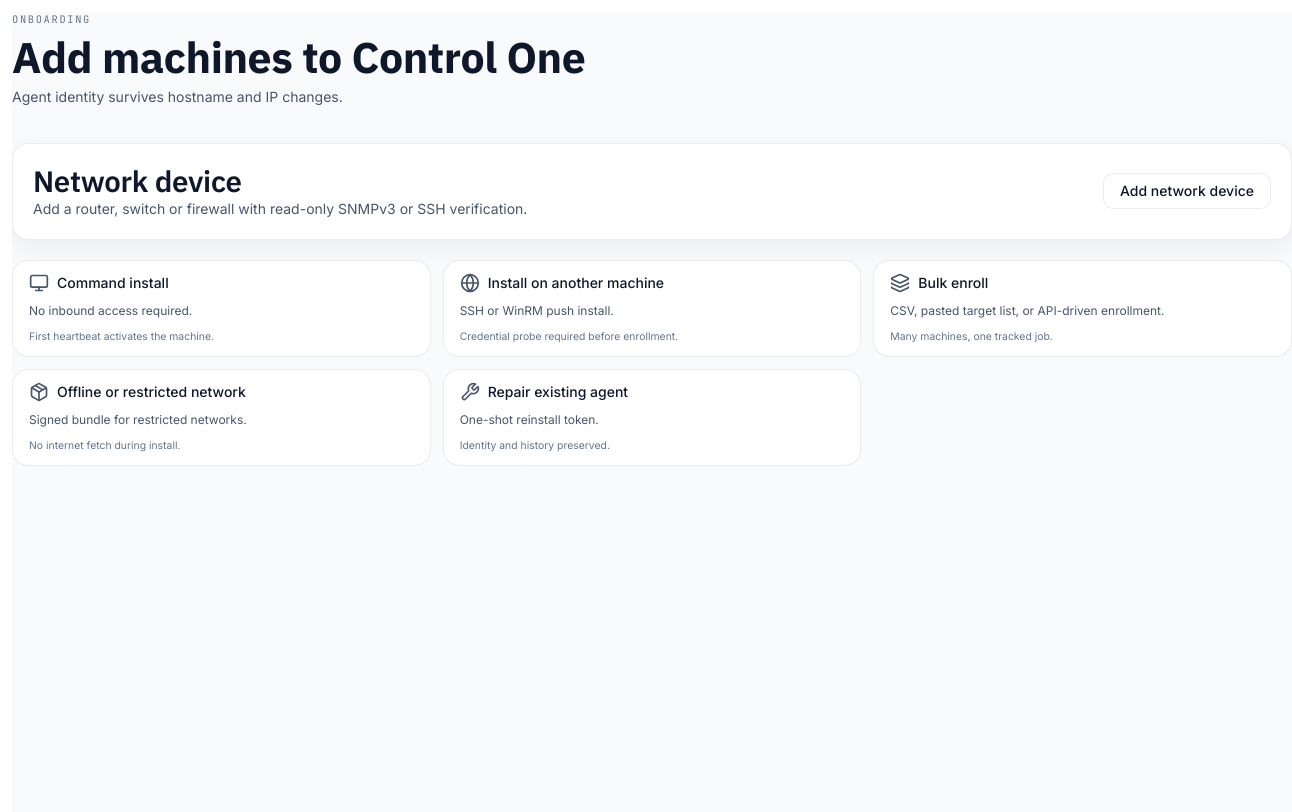
Onboard › keeps remote install hints target-neutral
Click the button "Install on another machine". click: coordinates (576, 283)
box: [443,260,861,357]
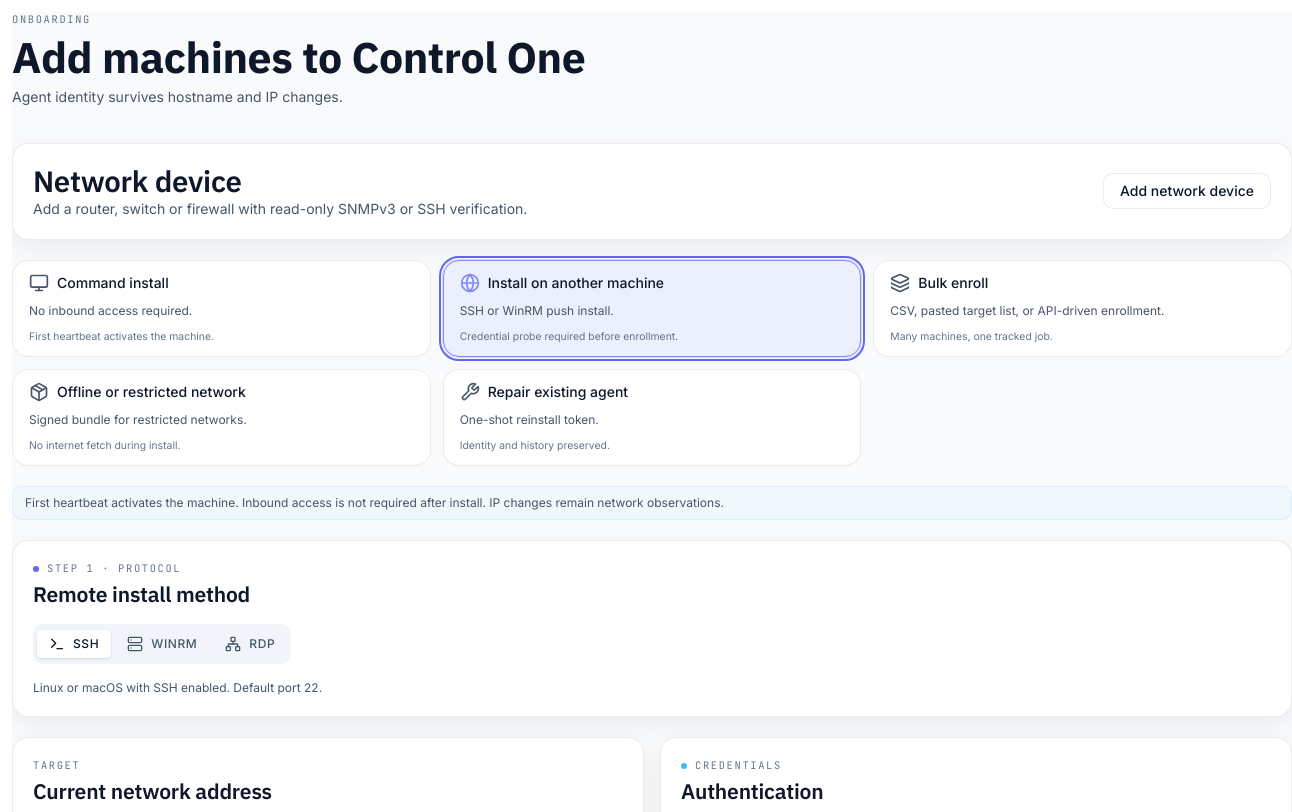
Expected: the text "Linux or macOS with SSH enabled. Default port 22." is shown, [33,680,322,695]
Click the tab "WinRM". click: coordinates (162, 644)
box: [115,630,209,658]
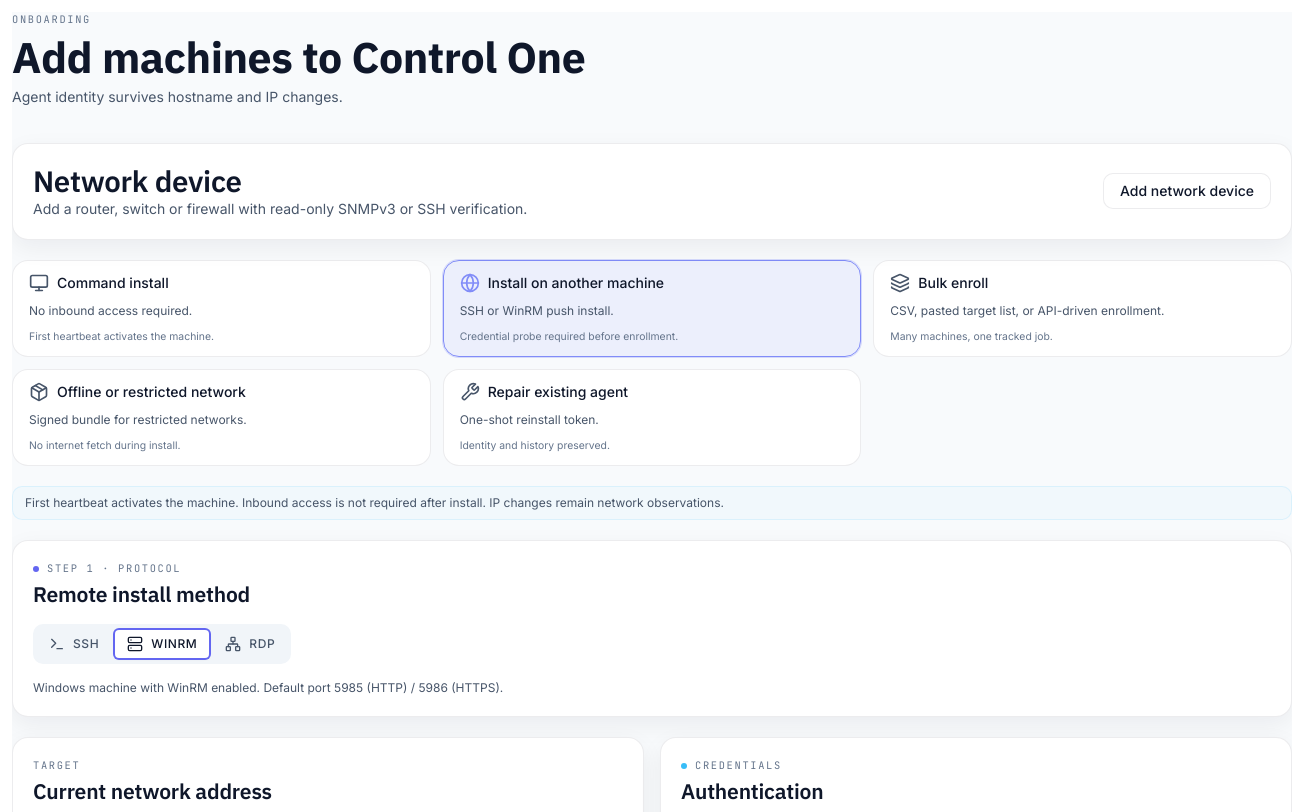
Expected: the text "Windows machine with WinRM enabled. Default port 5985 (HTTP) / 5986 (HTTPS)." is shown, [33,680,503,695]
